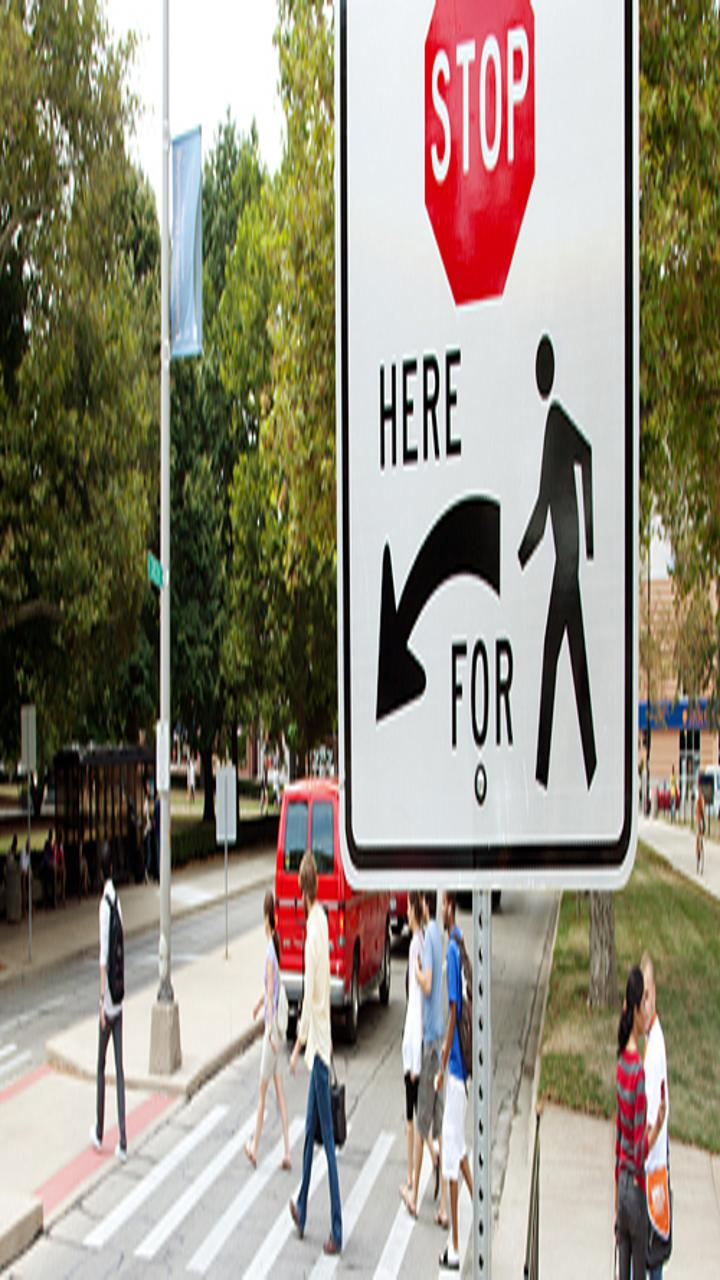Traffic sign: (314, 5, 656, 895)
pedestrian: (271, 855, 356, 1265), (415, 880, 488, 1275), (612, 955, 685, 1280), (80, 872, 148, 1160), (225, 886, 293, 1174)
vehicle: (252, 769, 414, 1013)
